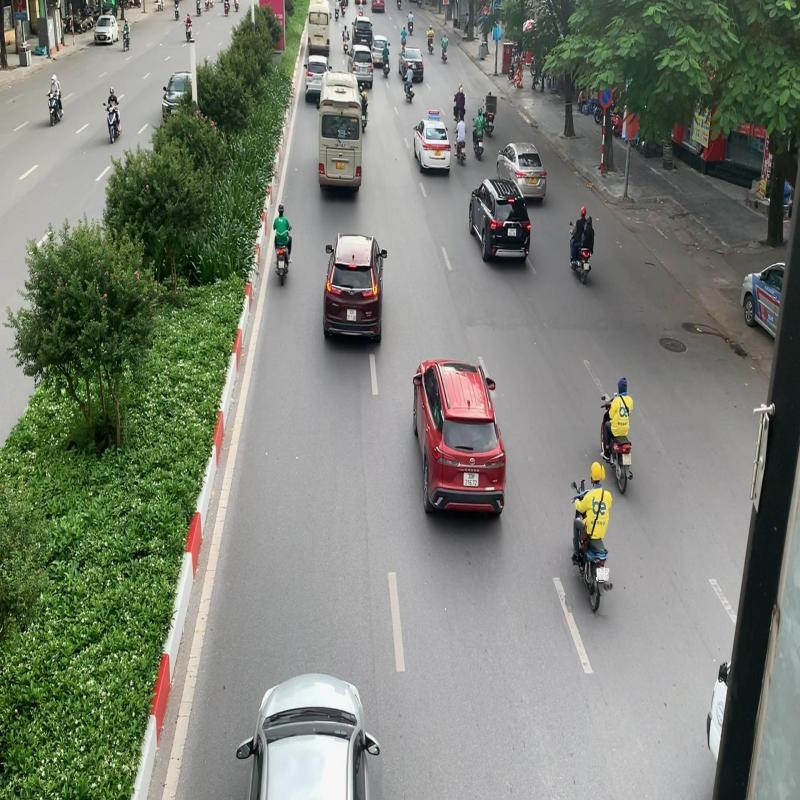helmet: (591, 462, 602, 484)
licenseplate: (598, 568, 610, 582)
motorcyclist: (568, 462, 614, 614)
